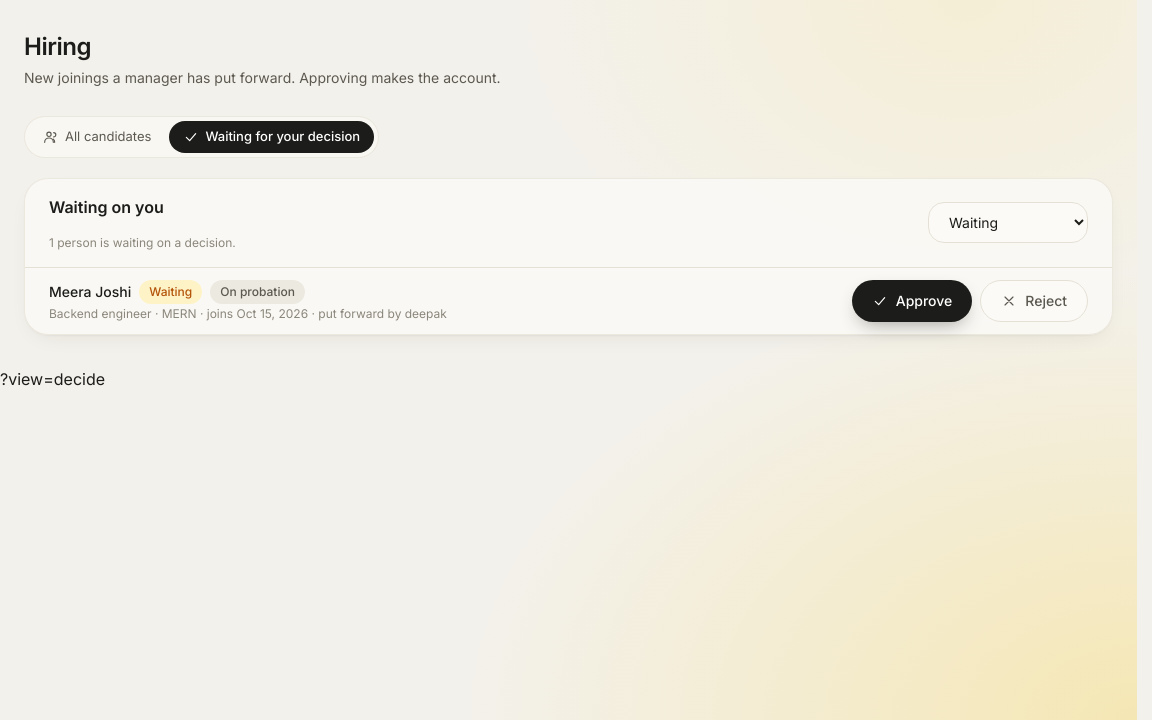
it: an admin deciding › will not reject without saying why
Click the button "Reject" at {"x": 1034, "y": 301}, box x1=980 y1=280 x2=1088 y2=322
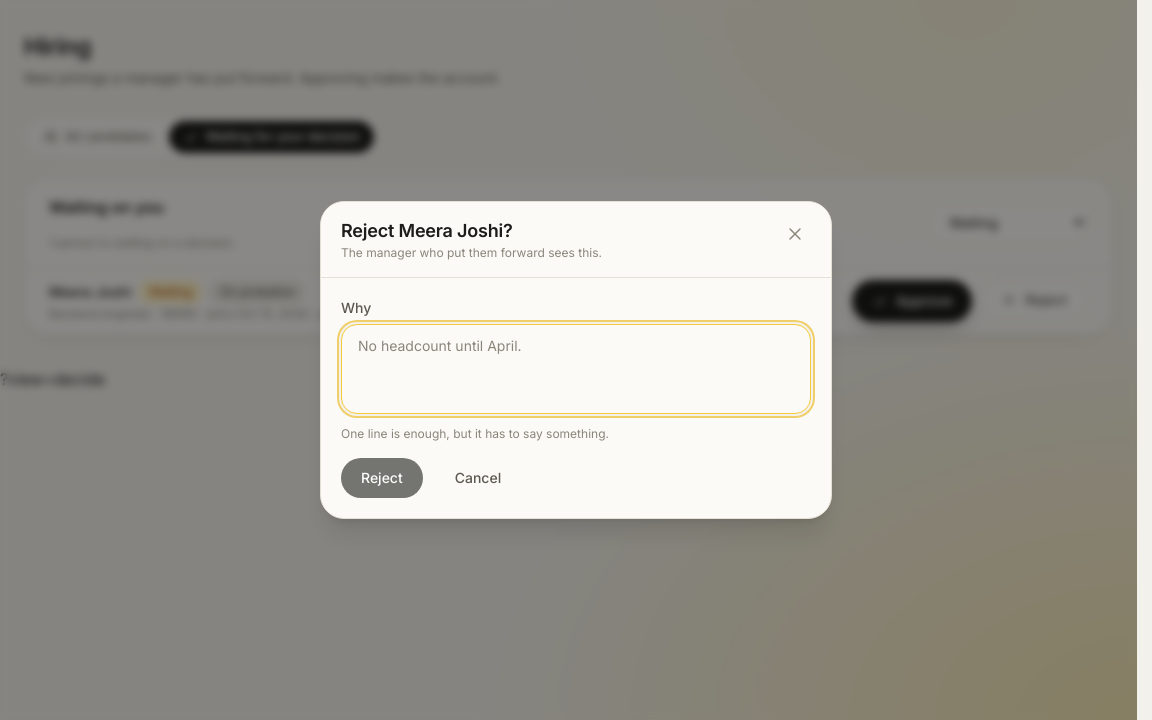
Expected: the button "Reject" is disabled, x1=341 y1=458 x2=423 y2=498
